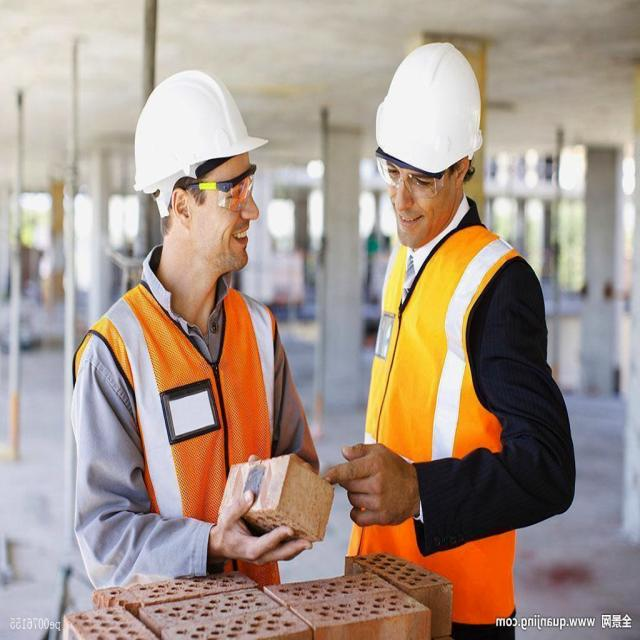face_nomask: (184, 162, 264, 284), (378, 170, 452, 248)
glasses: (370, 150, 450, 202), (210, 159, 261, 214)
hand_noglove: (325, 439, 417, 536), (205, 494, 307, 575)
head_helmet: (130, 70, 271, 182), (374, 41, 485, 166)
person: (68, 72, 318, 590), (342, 41, 539, 609)
vest: (92, 276, 282, 566), (354, 229, 509, 561)
